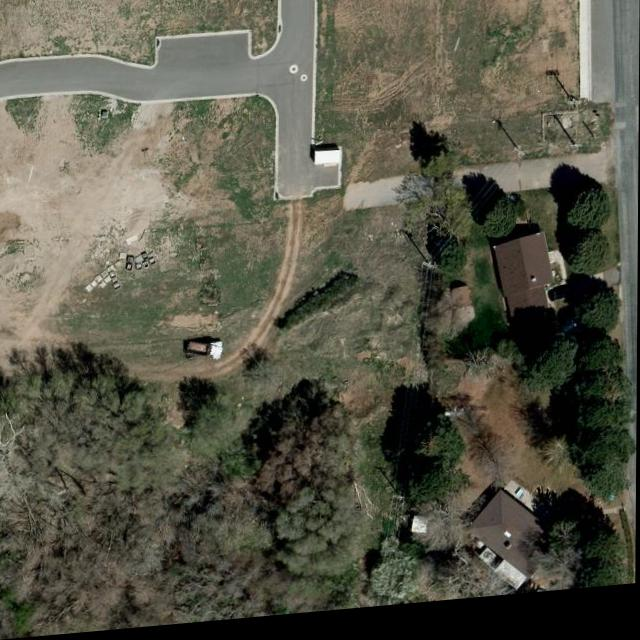vehicle: (185, 342, 225, 368)
